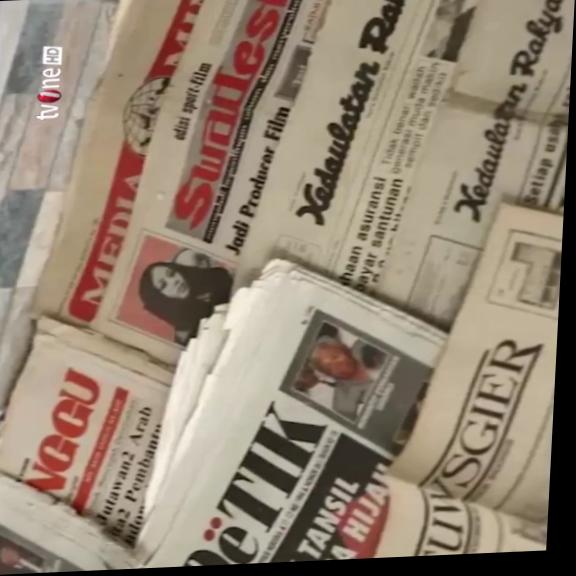Kertas: (30, 0, 456, 375), (125, 253, 459, 567), (0, 314, 181, 567)
